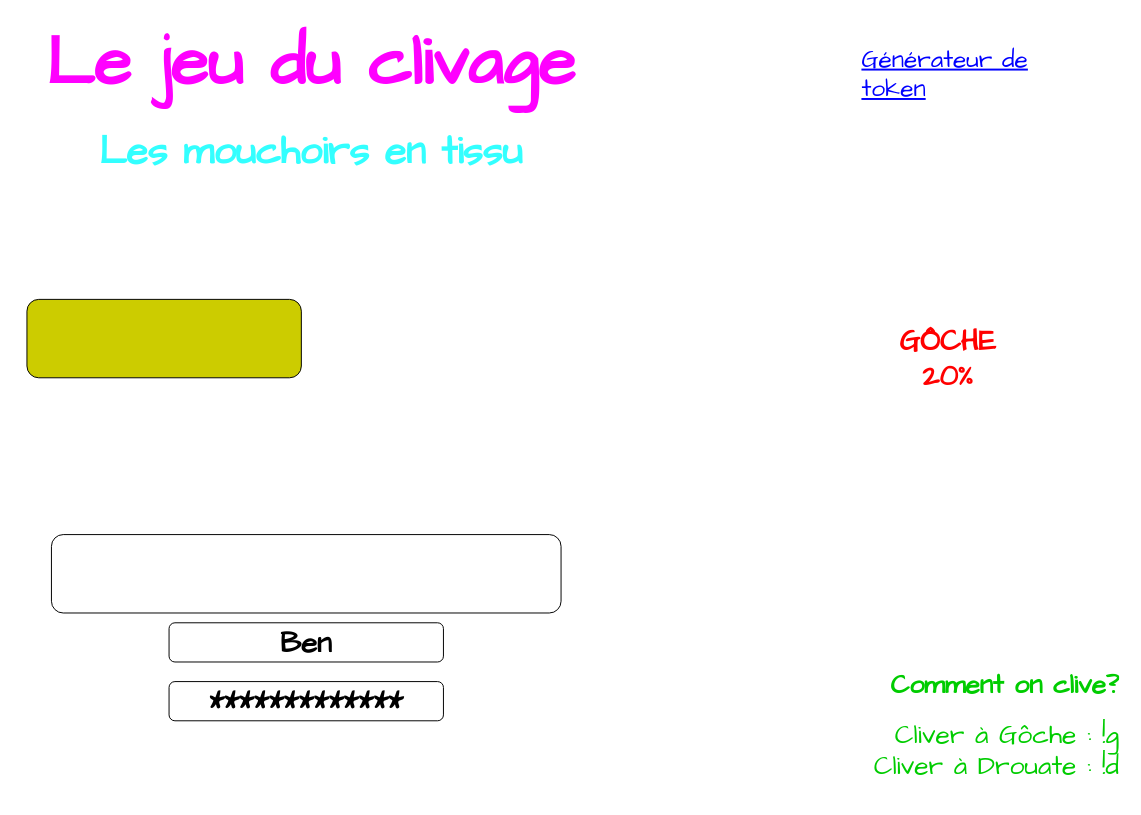
This 1141x815 diagram has some shape labels left out. Here are the shapes that lost their labels. From the top down, the centre of each, then its label:
At [163,338]: "Nouveau clivage".
At [305,573]: "On clive sur quoi ?".
